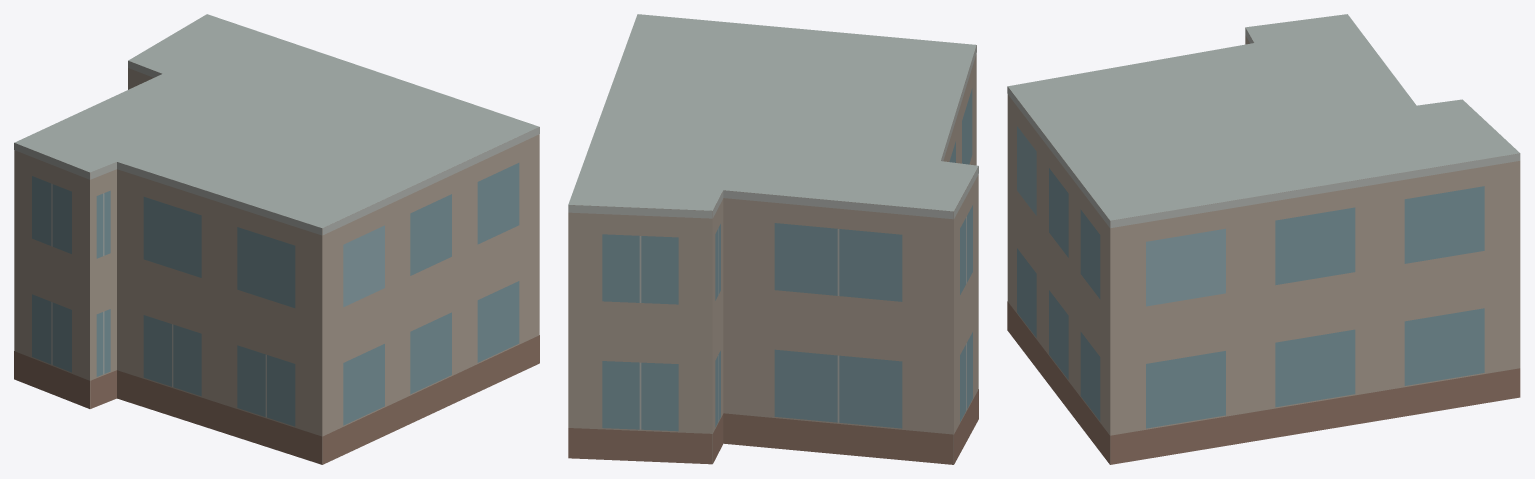
Rendered from survey-upis-32946916.glb.
3 views of the same model, side by side, from view 1: azimuth 30°, elevation 25°; view 2: azimuth 150°, elevation 25°; view 3: azimuth 270°, elevation 25° (orthographic). The views are drawn at different scales.
Parts seen in each view (by area): view 1: survey-upis-32946916.tmp; view 2: survey-upis-32946916.tmp; view 3: survey-upis-32946916.tmp.
Part boxes in pixels (left/top/right/bottom): survey-upis-32946916.tmp: left=14, top=14, right=539, bottom=464; survey-upis-32946916.tmp: left=568, top=14, right=978, bottom=464; survey-upis-32946916.tmp: left=1007, top=14, right=1520, bottom=464.
Size of the model in its own units: 14.35 by 7.9 by 15.05.
